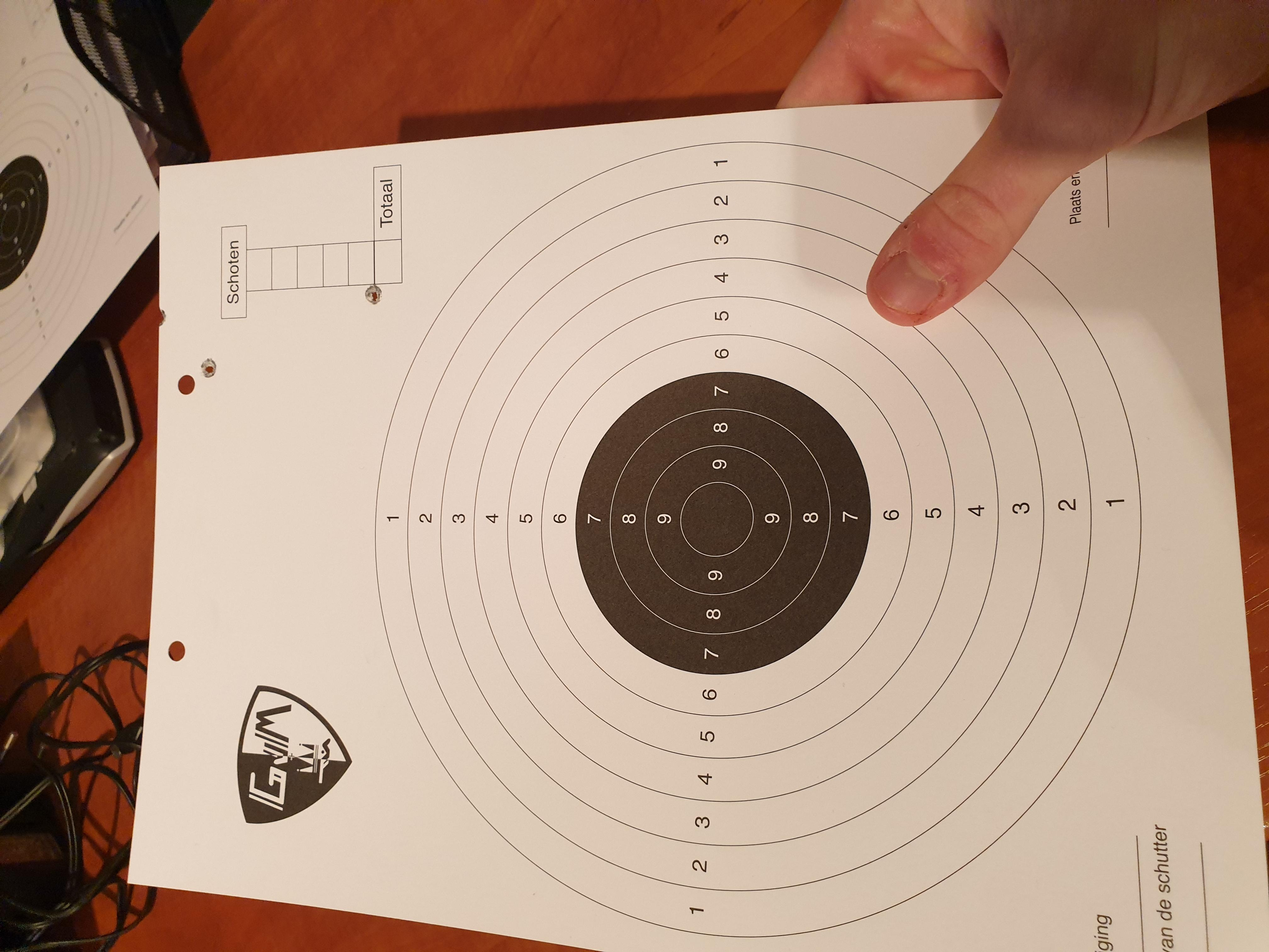hole: (860, 273, 892, 288), (763, 149, 793, 163), (833, 119, 859, 125)
